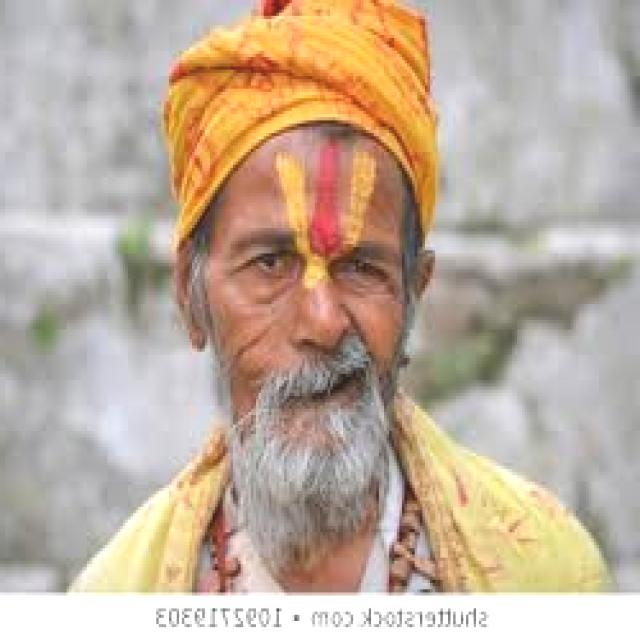stroke_face: (180, 112, 425, 546)
